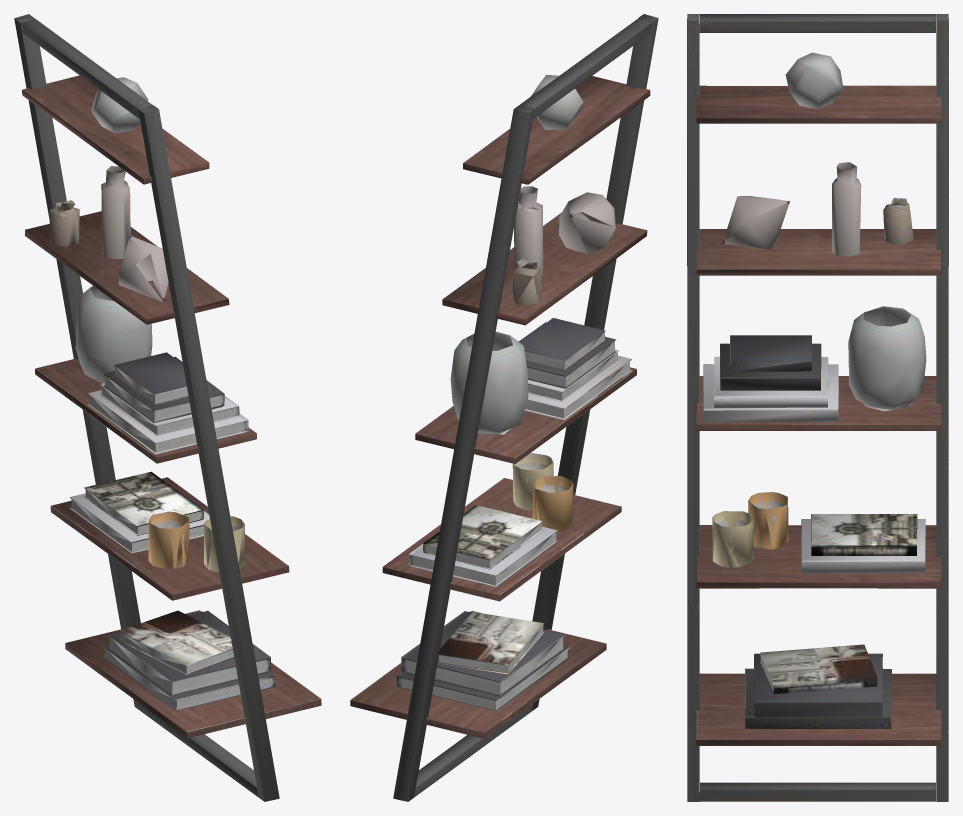
File: Cupboard0001.obj
The picture shows the model from 3 angles, left to right: view 1: azimuth 30°, elevation 25°; view 2: azimuth 150°, elevation 25°; view 3: azimuth 270°, elevation 25°; orthographic projection.
Bounding box in the file's own units: 0.508 × 1.92 × 0.63.
1 material, 1 textured.
